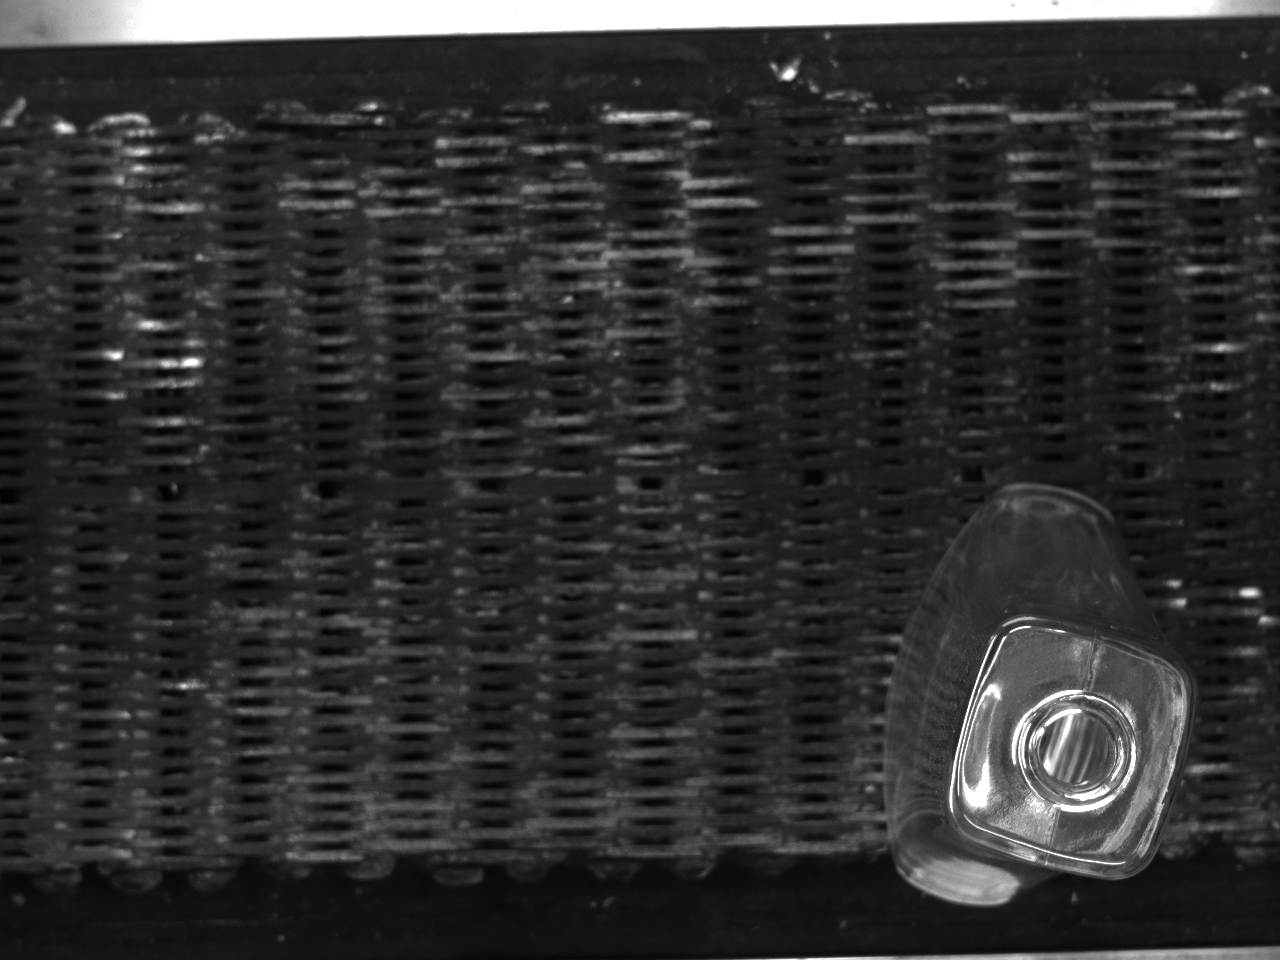bottleneck: (1018, 690, 1137, 812)
